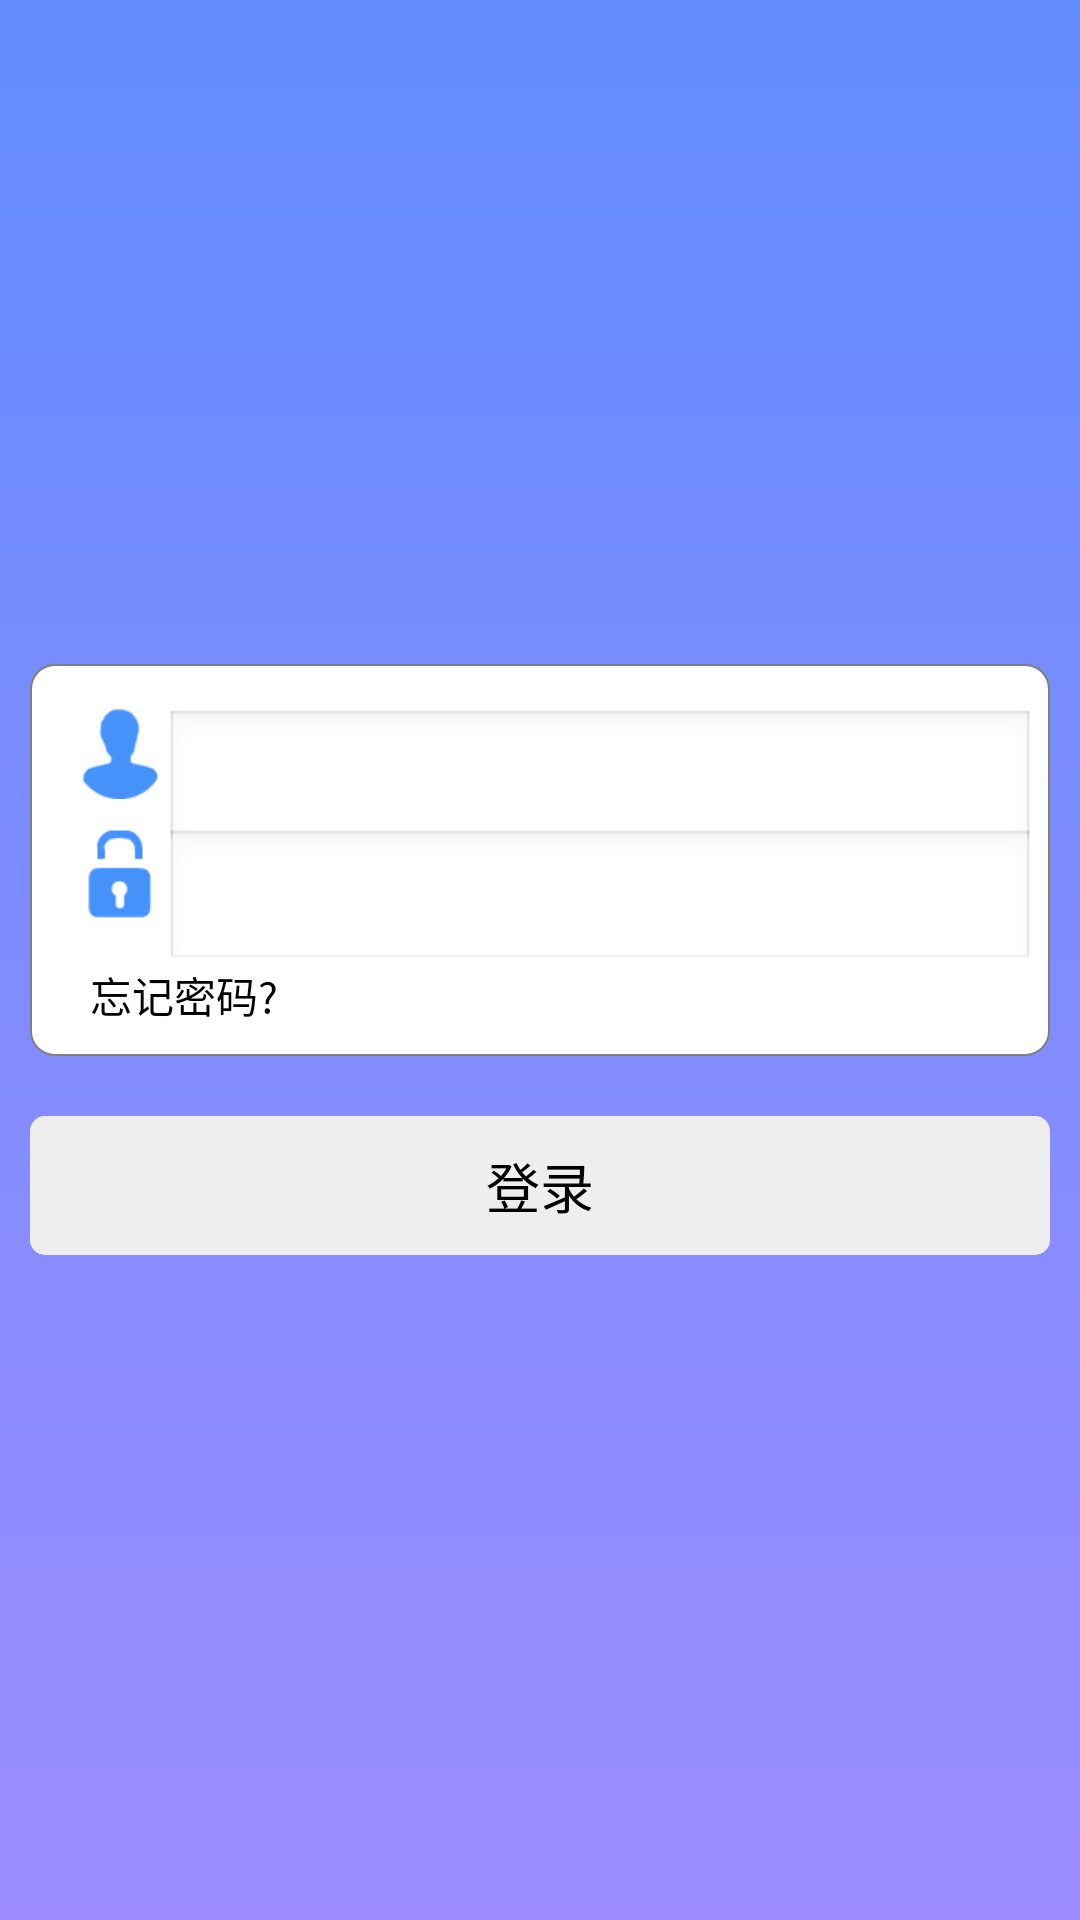

Icons on this 1080*1920 Android screen, each with the point to tap as [x,y]:
password: [119,874]
user: [120,754]
